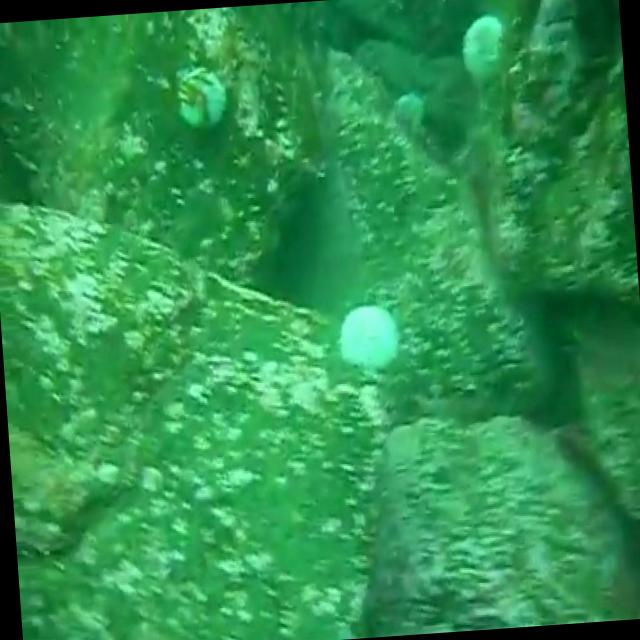Deniz Kestanesi: (328, 286, 406, 384), (446, 8, 516, 92), (170, 55, 233, 134)
